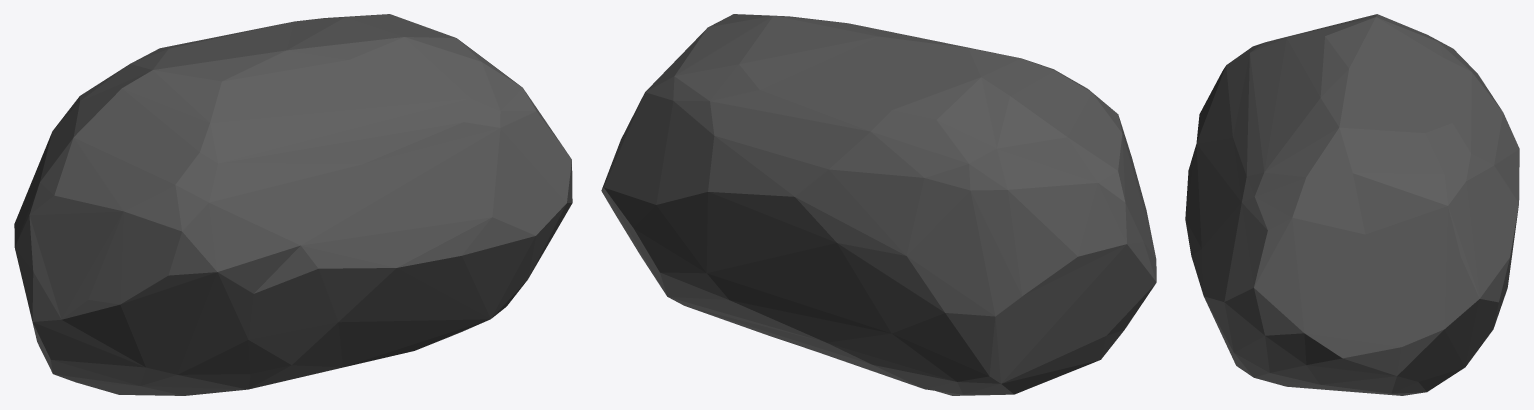
Rendered from Rock3.fbx.
3 renders of one model, left to right at view 1: azimuth 30°, elevation 25°; view 2: azimuth 150°, elevation 25°; view 3: azimuth 270°, elevation 25°, orthographic. The views are drawn at different scales.
Parts seen in each view (by area): view 1: kő1; view 2: kő1; view 3: kő1.
Part boxes in pixels (x1,y1,x2,y2): kő1: (14, 14, 572, 395); kő1: (601, 14, 1156, 395); kő1: (1185, 14, 1519, 395).
Bounding box in the file's own units: 3.15 × 1.83 × 1.92.
Materials: 1 (1 with a texture image).
